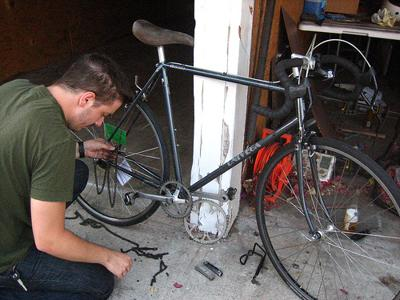person: (2, 48, 134, 299)
